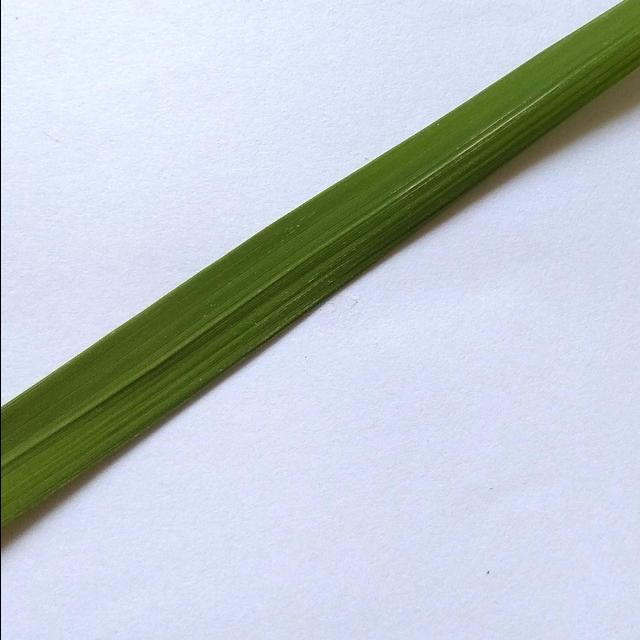healthy: (0, 1, 640, 540)
